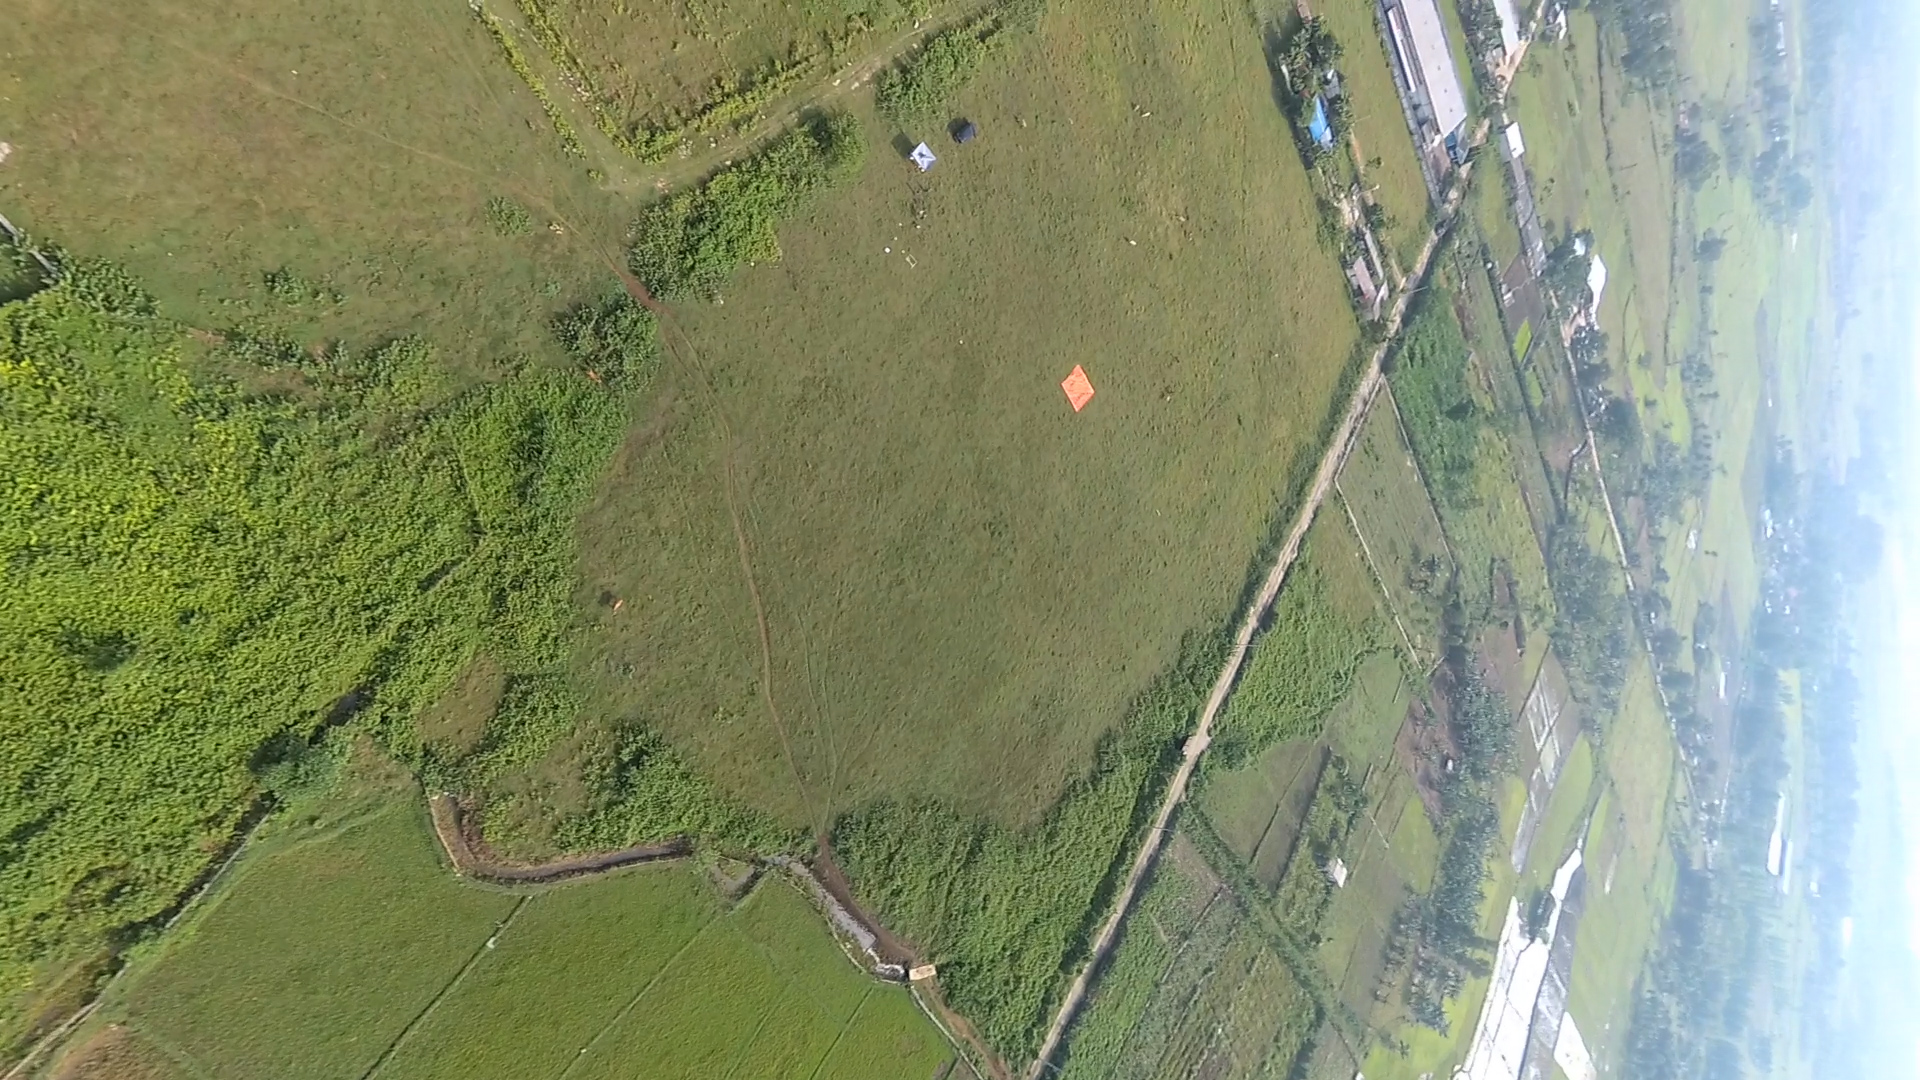Orange Dropzone: (1058, 360, 1098, 415)
